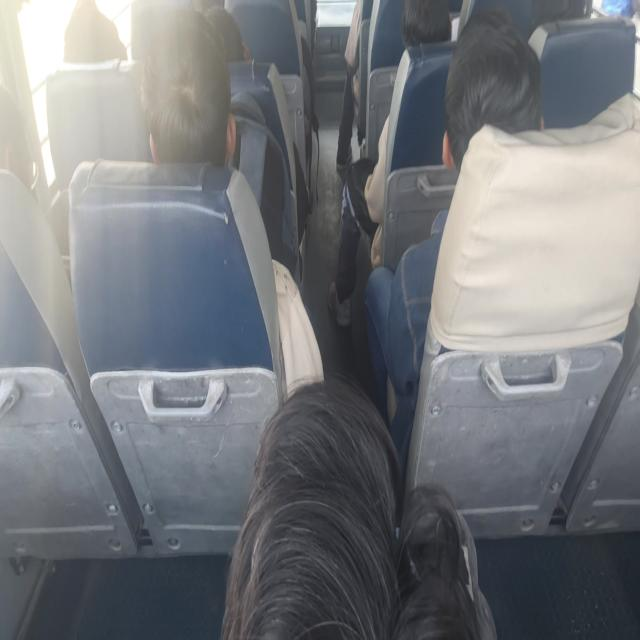person: (226, 375, 496, 640), (442, 31, 538, 191), (138, 18, 238, 166), (0, 84, 44, 200), (63, 0, 120, 71), (199, 0, 261, 56), (399, 0, 448, 53)
